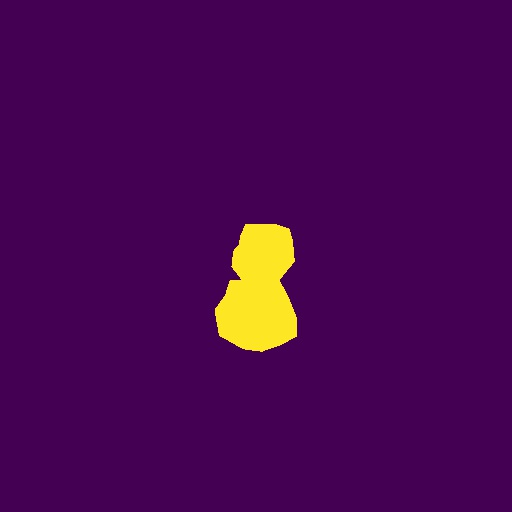Pituirity_tumour: (215, 224, 297, 352)
